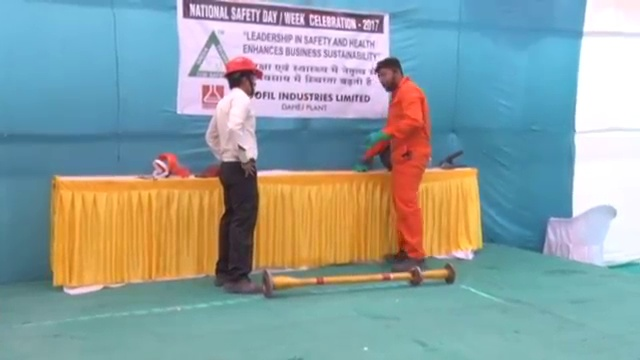helmet: (225, 54, 265, 82)
helmet_off: (374, 55, 404, 92)
helmet_on: (223, 56, 265, 100)
person: (370, 56, 433, 272), (213, 53, 267, 294)
